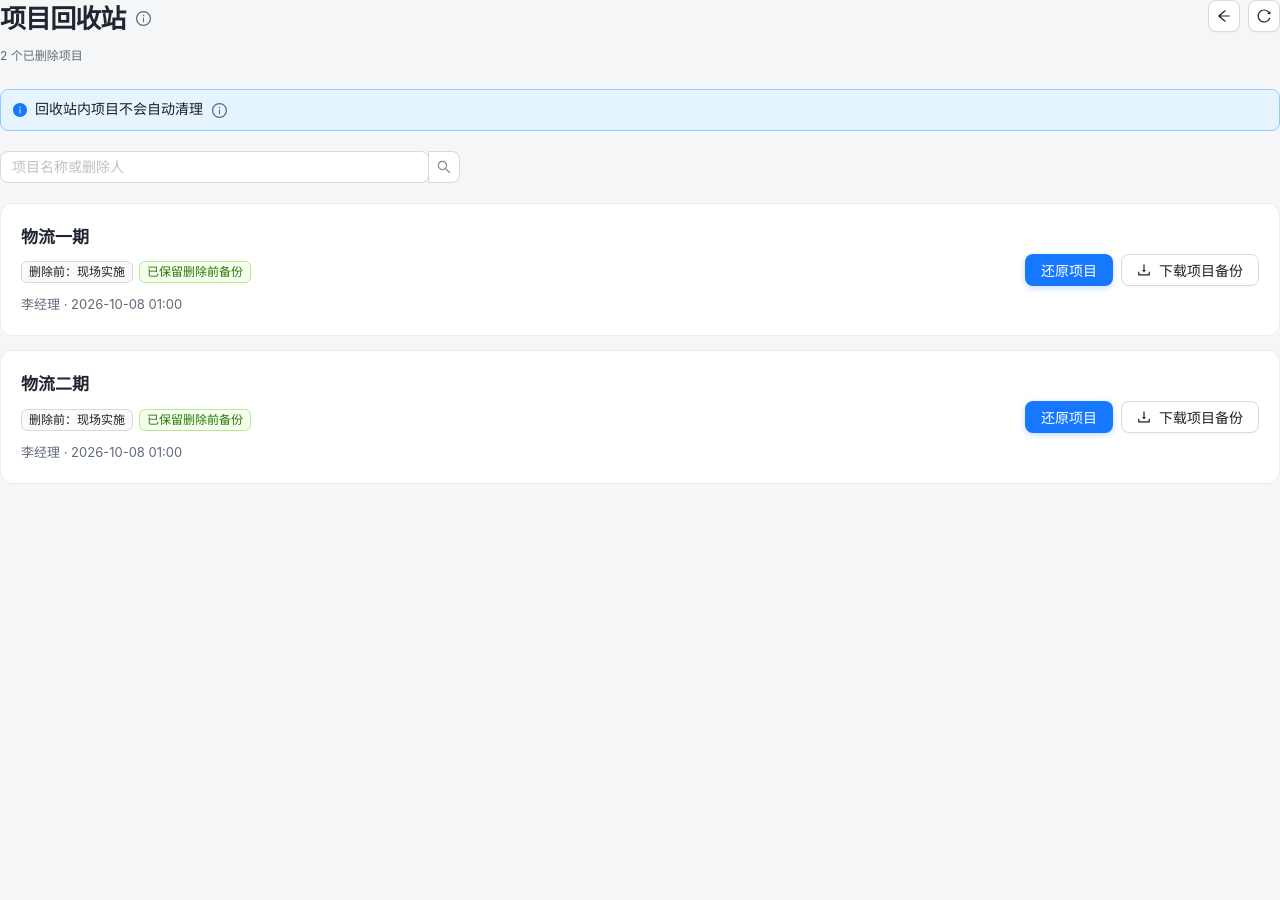
Test: restores only the exact deletion generation and removes only the successful row
This screenshot has width=1280, height=900.
Click the button with aria-label "还原项目：物流一期" at (1069, 270), box [1025,254,1113,286]
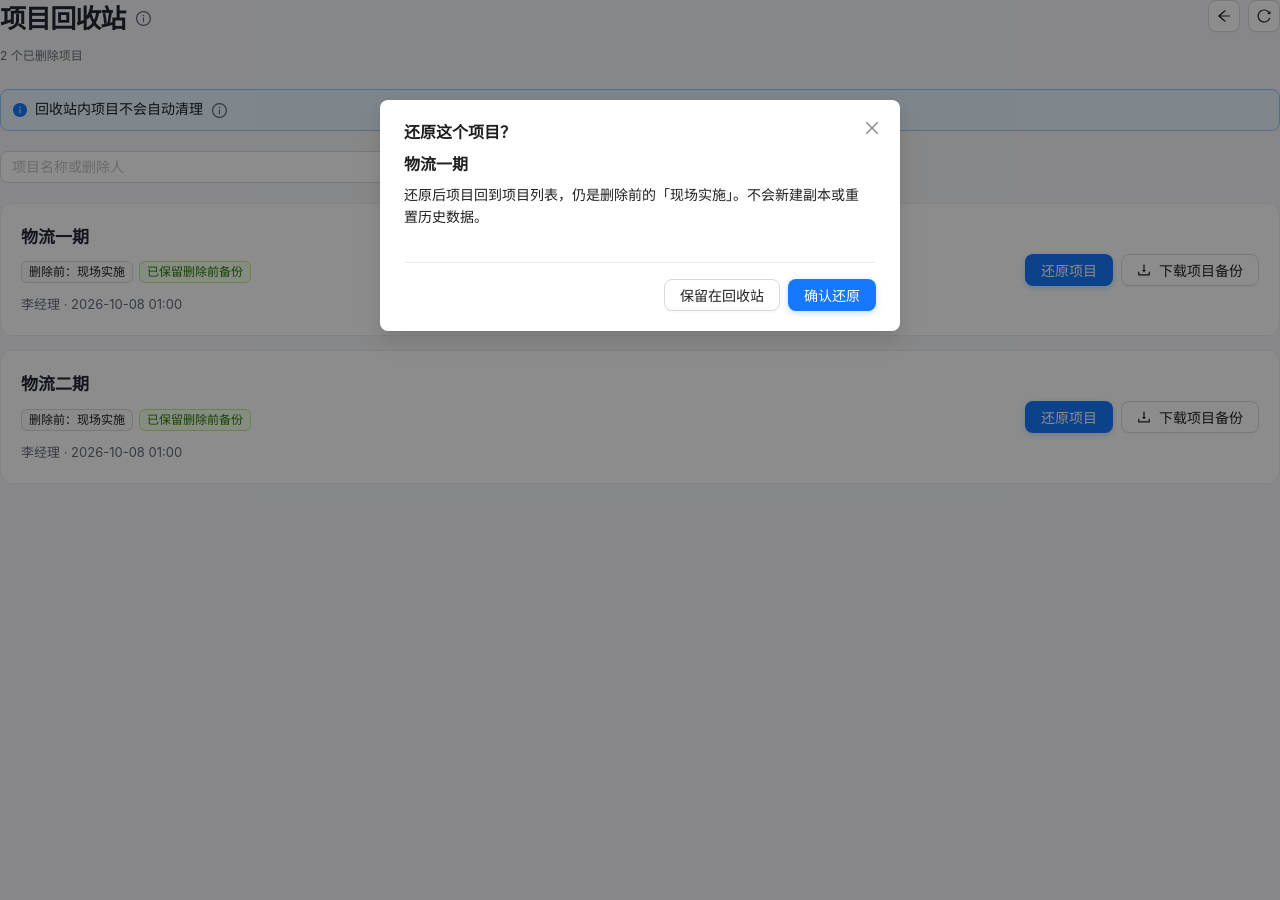
Click the button "确认还原" at (832, 295), box [788,279,876,311]
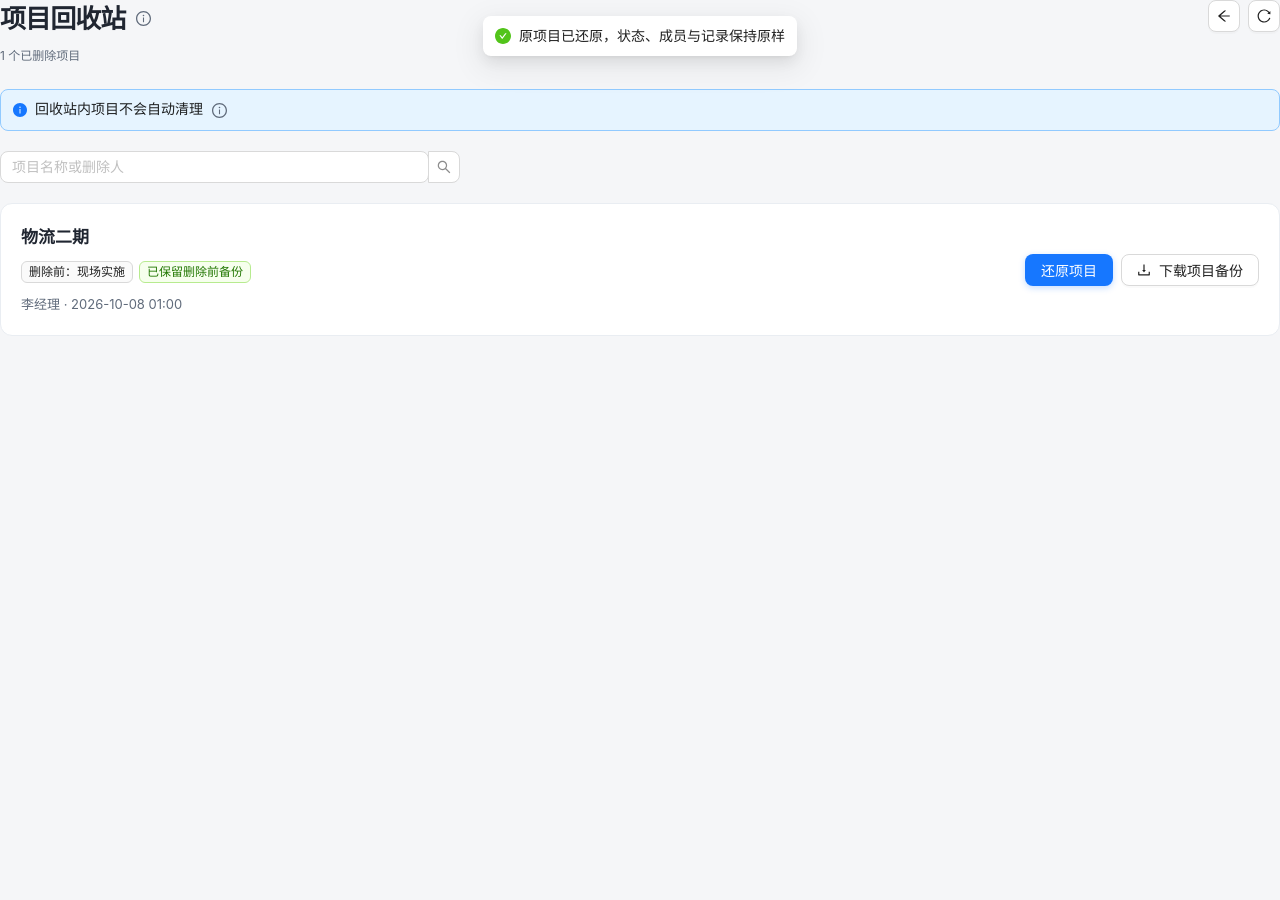
Check: the heading "物流二期" is shown, box [21,227,89,247]
Check: the heading "物流一期" is gone
